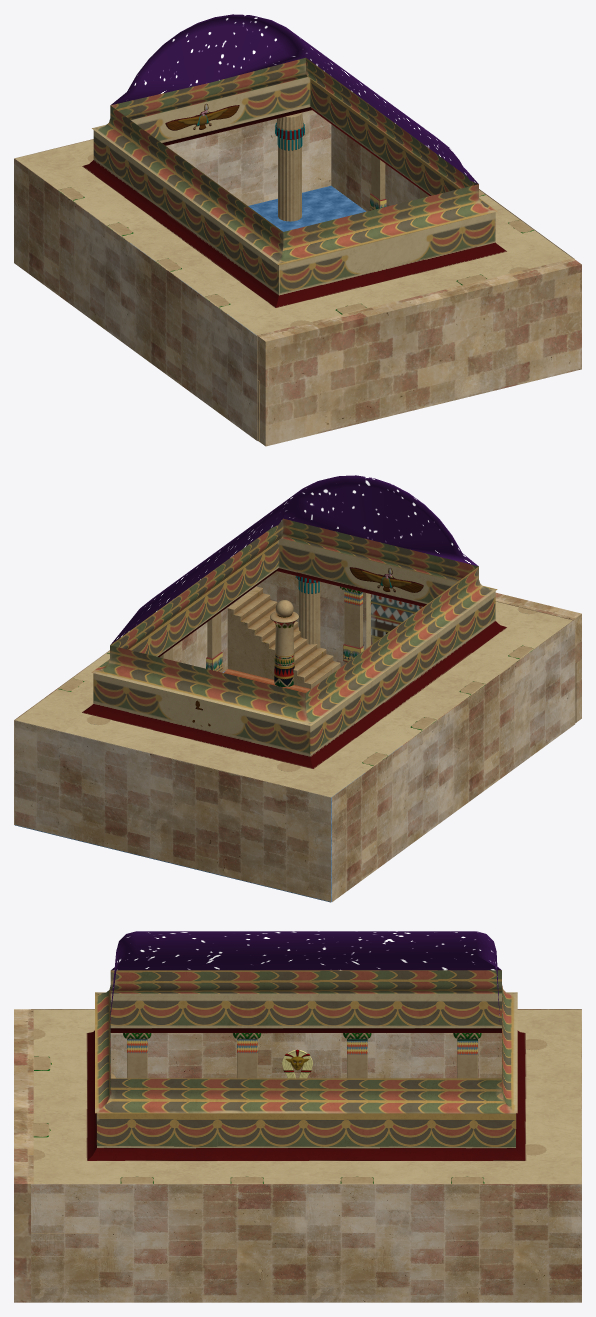
File: egyptian_temple (1) (1).glb
The picture shows the model from 3 angles, top to bottom: view 1: azimuth 30°, elevation 25°; view 2: azimuth 150°, elevation 25°; view 3: azimuth 270°, elevation 25°; orthographic projection. The views are drawn at different scales.
Visible parts, largest first — view 1: skyCeiling, frontWallPH, rightWallPH, dome, backWallPH, leftWallPH, largeCol3:column, floorPH, VULTURE_FR:vultureLP, smallCol8:base; view 2: skyCeiling, backWallPH, rightWallPH, dome, frontWallPH, stairs1:stairCaseR_PH, leftWallPH, smallColumn1:column, largeCol:column, smallCol10:base, floorPH, vultureLP (+1 smaller); view 3: skyCeiling, leftWallPH, dome, rightWallPH, frontWallPH, smallCol:base, smallCol1:base, smallCol2:base, smallCol3:base, HEAD_FR:HEAD.
Boxes of the visible parts, <box> form: skyCeiling: <box>15,57,572,335</box>; frontWallPH: <box>257,258,581,446</box>; rightWallPH: <box>14,158,257,440</box>; dome: <box>111,14,478,183</box>; backWallPH: <box>15,110,331,210</box>; leftWallPH: <box>331,124,574,258</box>; largeCol3:column: <box>276,112,303,221</box>; floorPH: <box>130,185,366,335</box>; VULTURE_FR:vultureLP: <box>165,103,239,130</box>; smallCol8:base: <box>370,153,386,210</box>; skyCeiling: <box>15,518,572,797</box>; backWallPH: <box>14,720,330,901</box>; rightWallPH: <box>331,619,575,901</box>; dome: <box>111,475,478,644</box>; frontWallPH: <box>257,571,581,722</box>; stairs1:stairCaseR_PH: <box>227,586,340,688</box>; leftWallPH: <box>14,586,256,824</box>; smallColumn1:column: <box>270,600,299,686</box>; largeCol:column: <box>297,576,320,648</box>; smallCol10:base: <box>343,590,363,664</box>; floorPH: <box>15,669,461,902</box>; vultureLP: <box>349,567,423,592</box>; skyCeiling: <box>33,970,581,1183</box>; leftWallPH: <box>31,1184,581,1302</box>; dome: <box>109,931,501,1022</box>; rightWallPH: <box>31,1009,581,1078</box>; frontWallPH: <box>14,1009,33,1302</box>; smallCol:base: <box>347,1039,367,1078</box>; smallCol1:base: <box>237,1039,257,1078</box>; smallCol2:base: <box>127,1039,147,1078</box>; smallCol3:base: <box>457,1039,477,1078</box>; HEAD_FR:HEAD: <box>282,1049,312,1078</box>.
Bounding box in the file's own units: 1507 × 1090 × 2062.
Materials: 13 (13 with a texture image).
